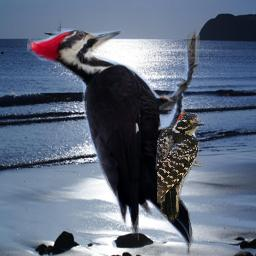Woodpecker: (27, 28, 200, 255), (157, 111, 205, 223)
